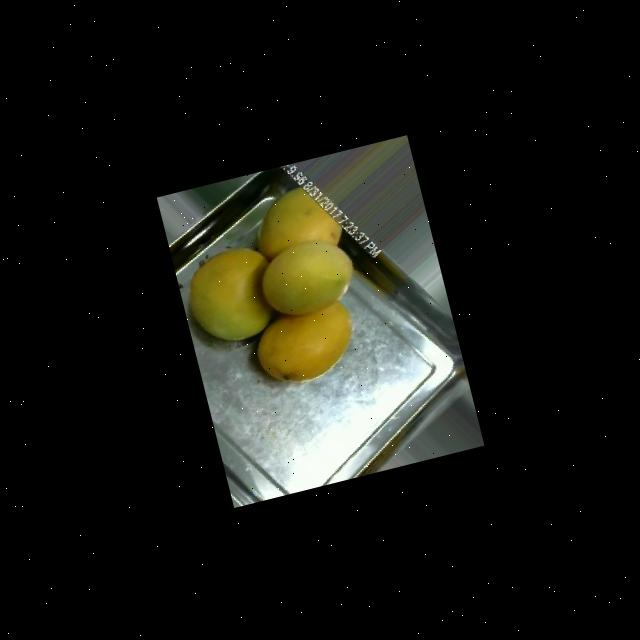Mango: (178, 240, 285, 350), (250, 297, 364, 391), (254, 230, 362, 323), (247, 178, 346, 264)
